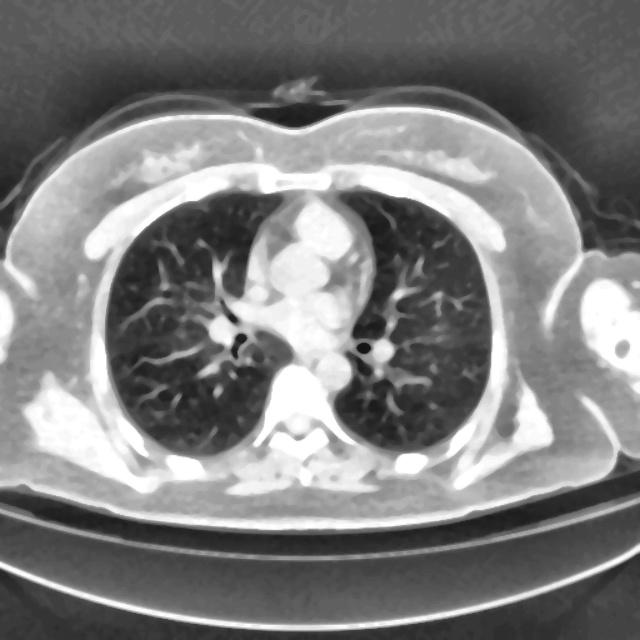covid: (0, 86, 638, 534)
